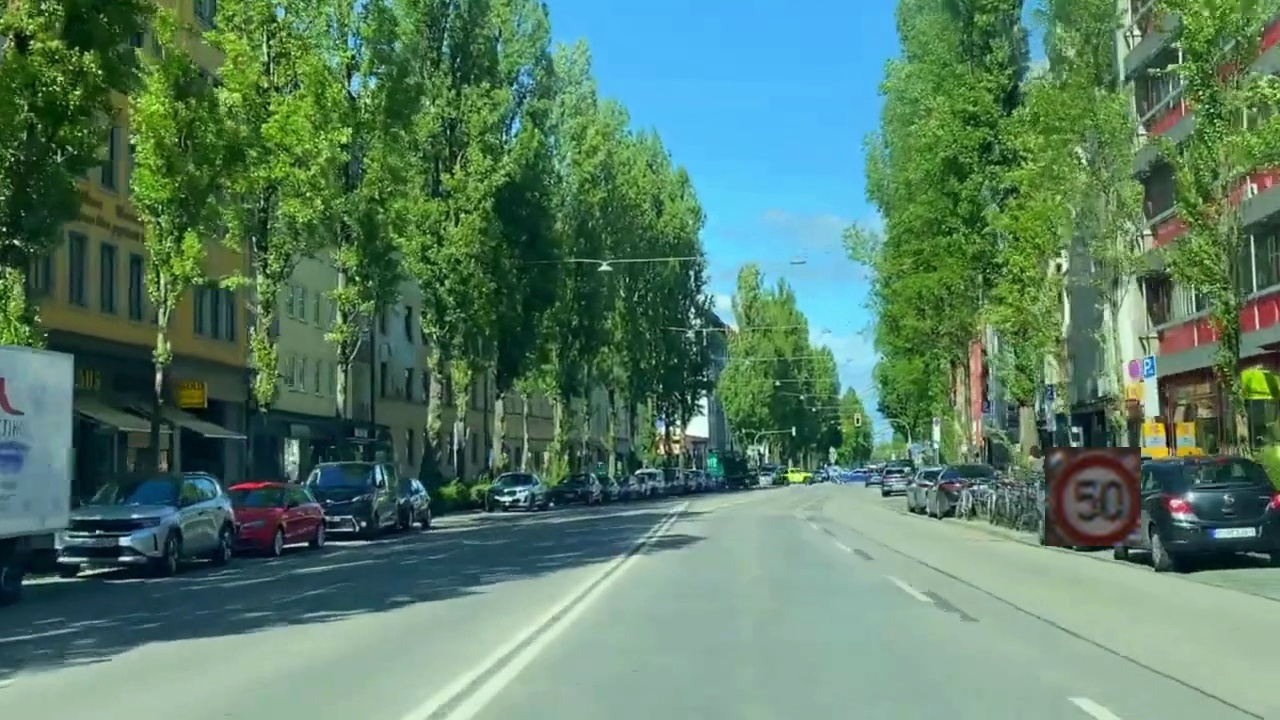Speed 50: (1045, 447, 1141, 546)
